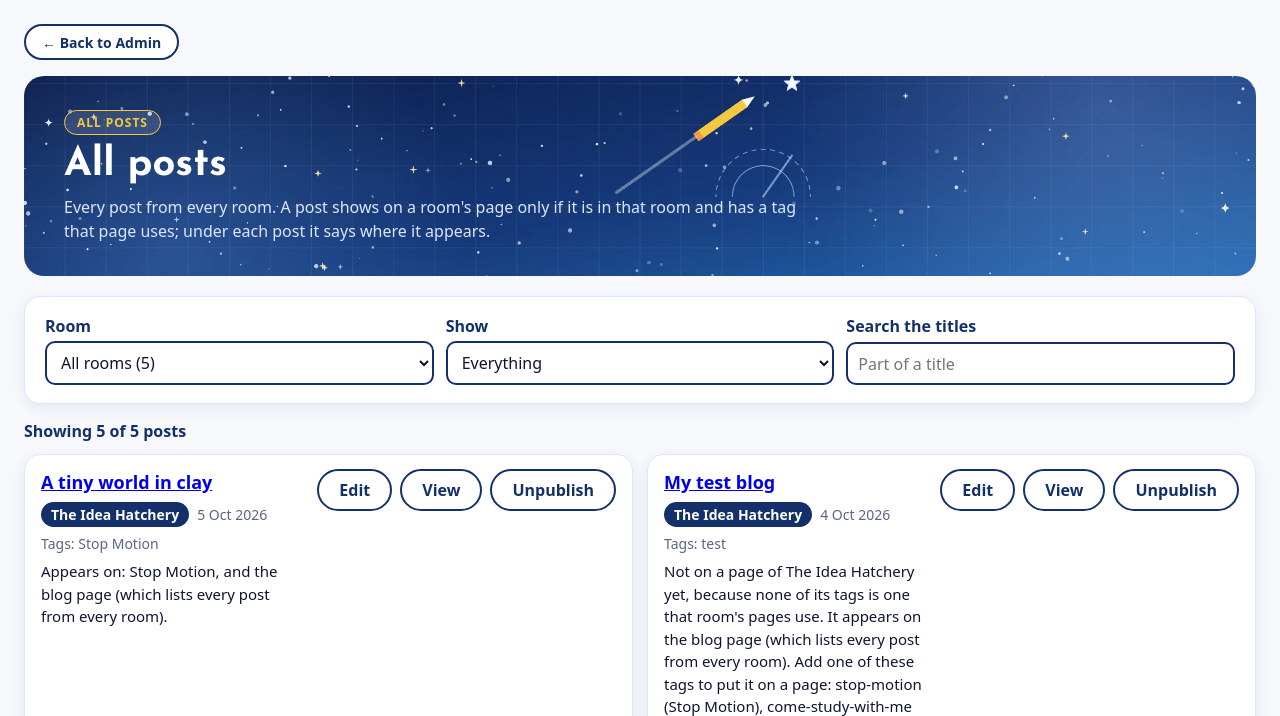
Test: the filters › narrows to one room
Check: the link "My test blog" is shown, box [664,470,775,494]
Select "The Idea Hatchery (3)" in the dropdown labelled "Room" at (239, 363), box [45,341,434,385]
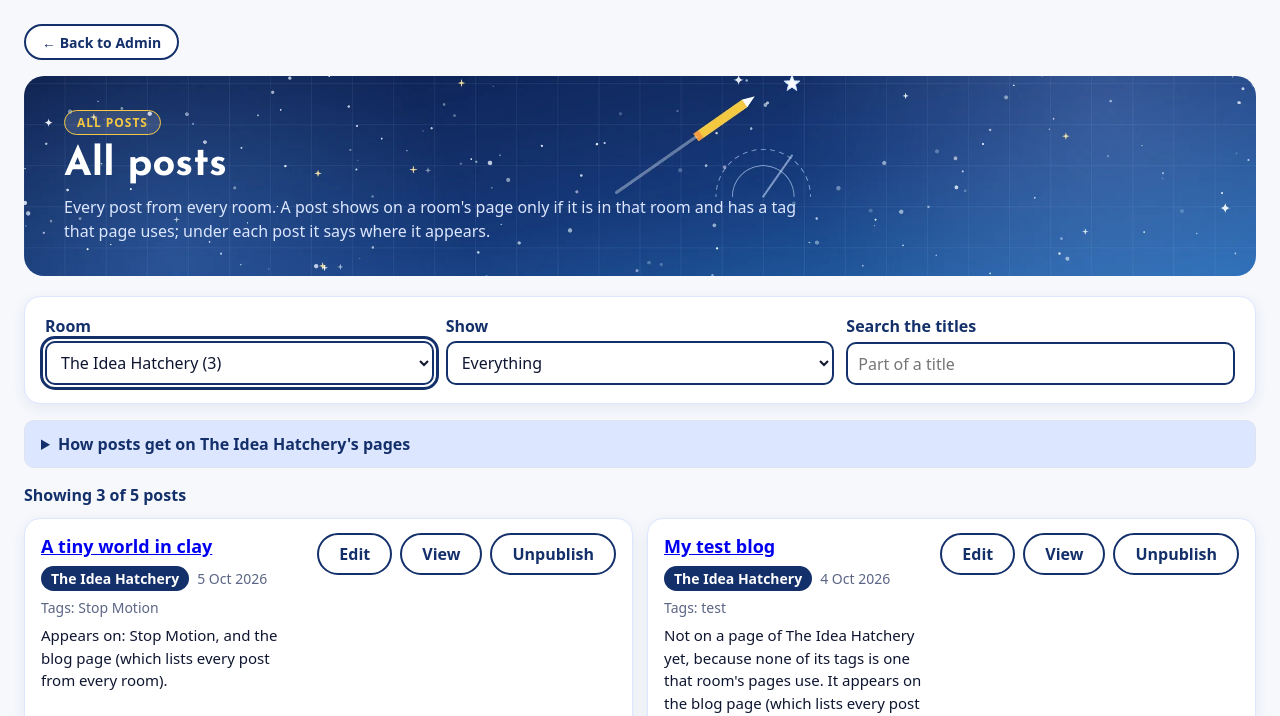
Check: the link "My test blog" is shown, box [664,534,775,558]
Check: the message reads "Showing 3 of 5 posts", box [24,484,186,506]
